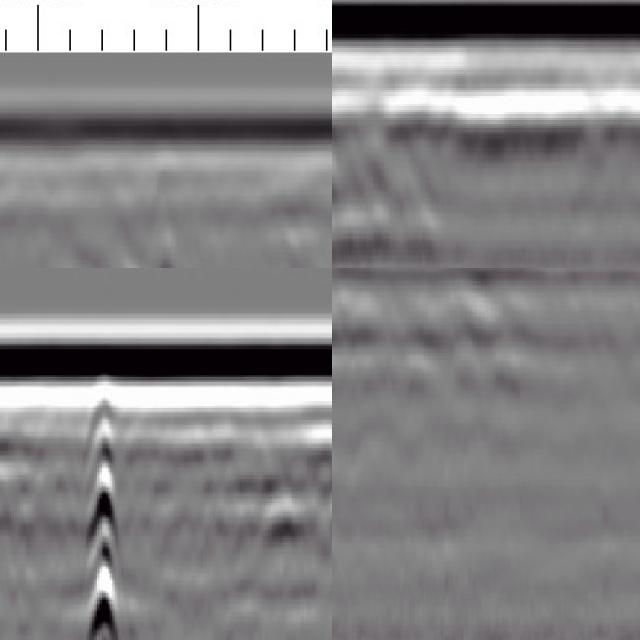crack: (86, 374, 122, 640)
loose: (333, 72, 490, 259), (333, 287, 535, 390)
